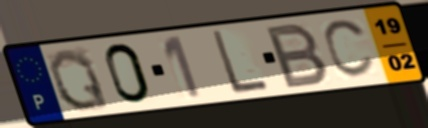0: (102, 41, 155, 107)
1: (159, 34, 203, 102)
B: (264, 20, 331, 91)
C: (320, 17, 378, 81)
L: (209, 29, 272, 97)
Q: (46, 46, 113, 113)
